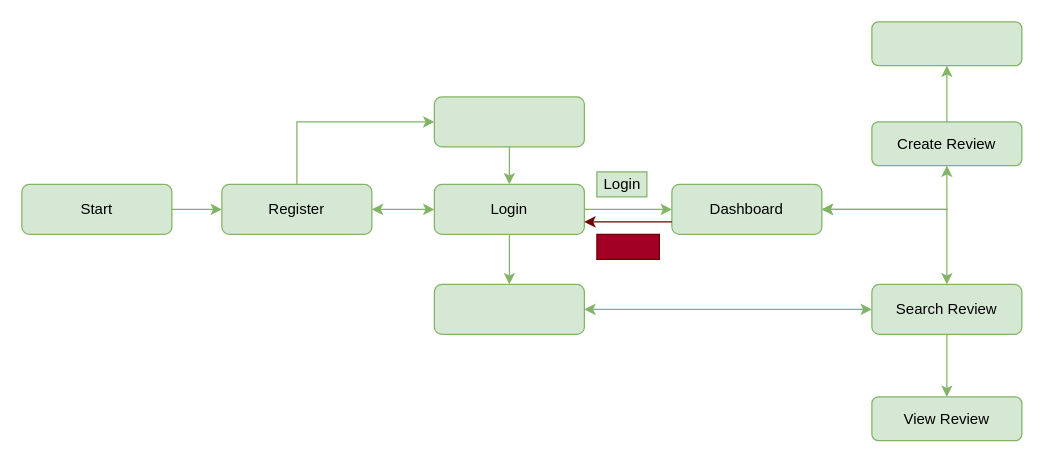
Some shapes in this 1044 by 463 pixel diagram are drawn without their labels. Here are the shapes that lost their labels. From the top down, the centre of each, then its label:
point 946,43: Insert Review
point 508,121: Create account
point 627,246: Logout
point 508,308: Guest
